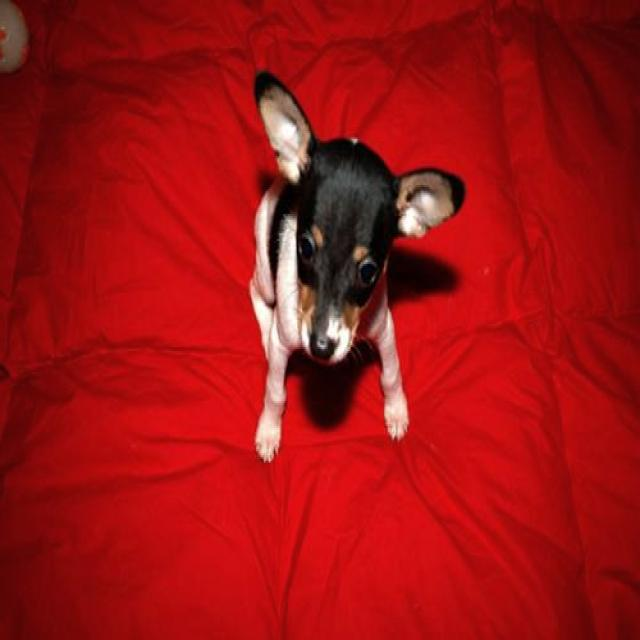toy_terrier: (247, 71, 466, 463)
